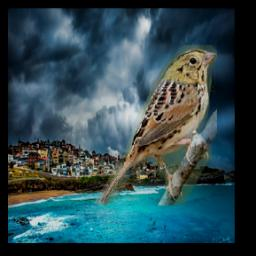Sparrow: (93, 46, 217, 206)
